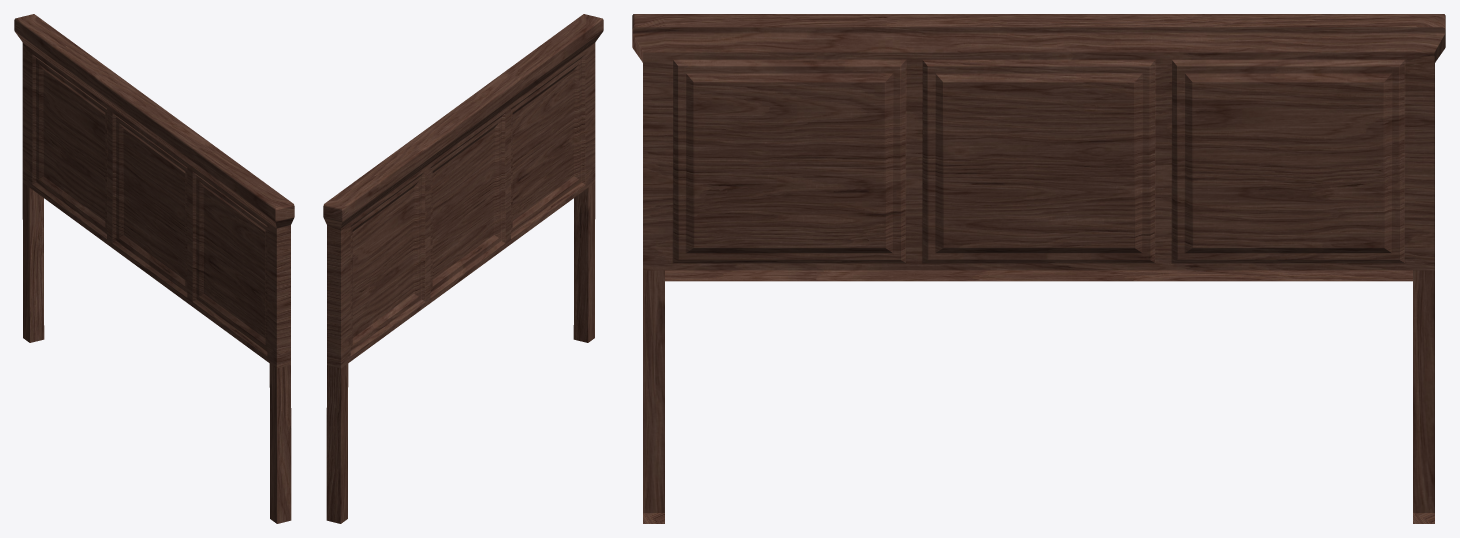
Rendered from traditional_wood_paneled_headboard.glb.
3 views of the same model, side by side, from view 1: azimuth 30°, elevation 25°; view 2: azimuth 150°, elevation 25°; view 3: azimuth 270°, elevation 25° (orthographic). The views are drawn at different scales.
Visible parts, largest first — view 1: pCube3; view 2: pCube3; view 3: pCube3.
Boxes of the visible parts, x1=… form: pCube3: x1=14, y1=14, x2=294, y2=523; pCube3: x1=323, y1=14, x2=603, y2=523; pCube3: x1=632, y1=14, x2=1445, y2=523.
Bounding box in the file's own units: 0.0862 × 1.35 × 2.
1 material, 1 textured.
